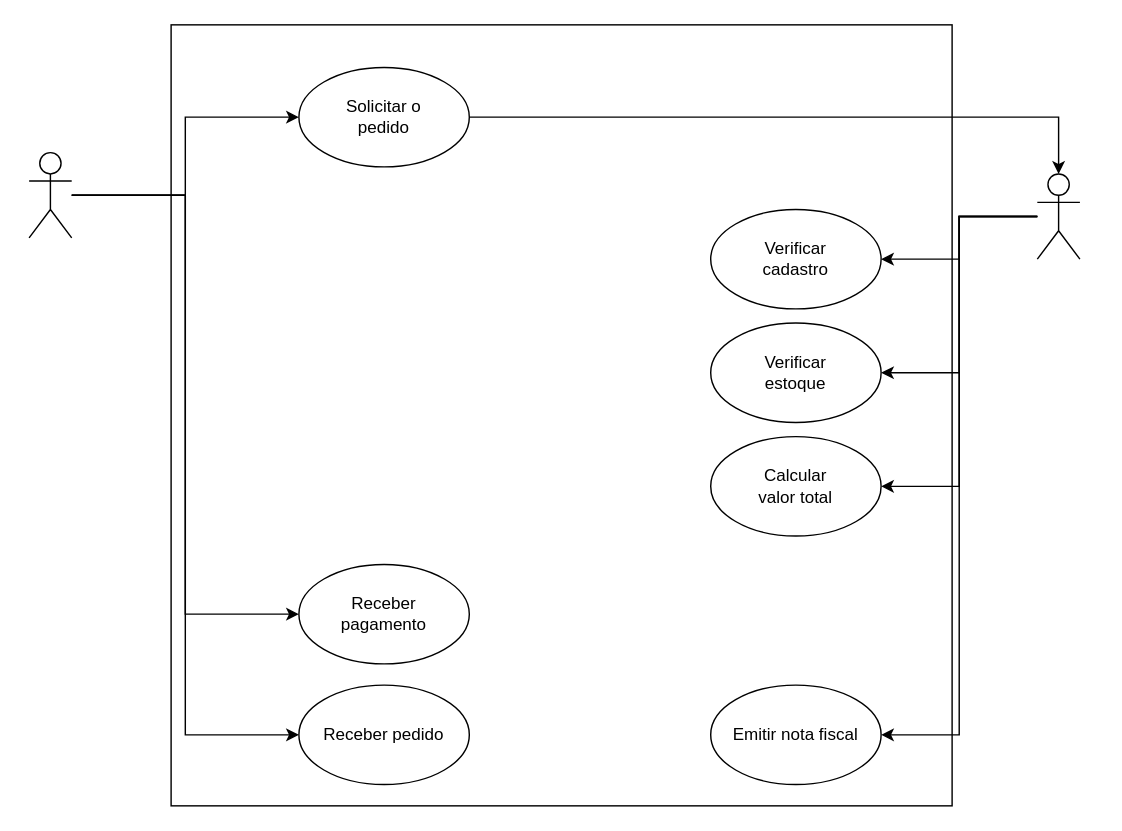
Some shapes in this 1122 by 831 pixel diagram are drawn without their labels. The shapes that lost their labels are listed below. From the top down, each one's centre as x and y in pixels, then its label:
(50,194): Cliente
(1058,216): Balconista
